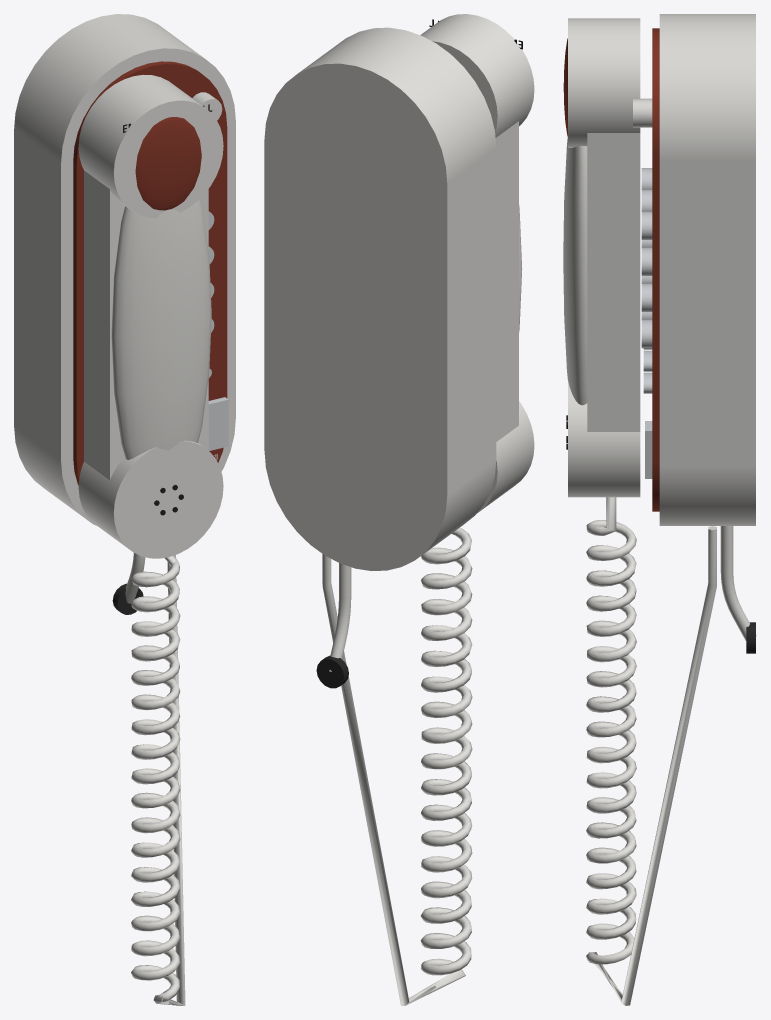
The model's file is intercom_phone.glb.
3 renders of one model, left to right at view 1: azimuth 30°, elevation 25°; view 2: azimuth 150°, elevation 25°; view 3: azimuth 270°, elevation 25°, orthographic. The views are drawn at different scales.
Visible parts, largest first — view 1: IntercomHandset_PhoneWhite, IntercomPhone_PhoneWhite, IntercomCord_PhoneWhite, IntercomPhone_PhoneRedBrown, IntercomHandset_PhoneRedBrown, IntercomPhone_PhoneSilverKey; view 2: IntercomPhone_PhoneWhite, IntercomCord_PhoneWhite, IntercomHandset_PhoneWhite, IntercomPhone_PhoneGrommet; view 3: IntercomPhone_PhoneWhite, IntercomHandset_PhoneWhite, IntercomCord_PhoneWhite, IntercomPhone_PhoneRedBrown, IntercomPhone_PhoneSilverKey.
Part boxes in pixels (bbox=[...]): IntercomHandset_PhoneWhite: bbox=[78, 74, 223, 558]; IntercomPhone_PhoneWhite: bbox=[14, 14, 235, 603]; IntercomCord_PhoneWhite: bbox=[131, 555, 185, 1005]; IntercomPhone_PhoneRedBrown: bbox=[73, 61, 227, 485]; IntercomHandset_PhoneRedBrown: bbox=[135, 117, 201, 210]; IntercomPhone_PhoneSilverKey: bbox=[208, 211, 228, 450]; IntercomPhone_PhoneWhite: bbox=[264, 27, 496, 671]; IntercomCord_PhoneWhite: bbox=[322, 528, 472, 1005]; IntercomHandset_PhoneWhite: bbox=[420, 14, 534, 513]; IntercomPhone_PhoneGrommet: bbox=[316, 655, 348, 688]; IntercomPhone_PhoneWhite: bbox=[633, 14, 756, 640]; IntercomHandset_PhoneWhite: bbox=[563, 18, 640, 497]; IntercomCord_PhoneWhite: bbox=[586, 497, 716, 1005]; IntercomPhone_PhoneRedBrown: bbox=[652, 28, 659, 511]; IntercomPhone_PhoneSilverKey: bbox=[641, 168, 652, 478].
Bounding box in the file's own units: 0.086 × 0.4457 × 0.0803.
